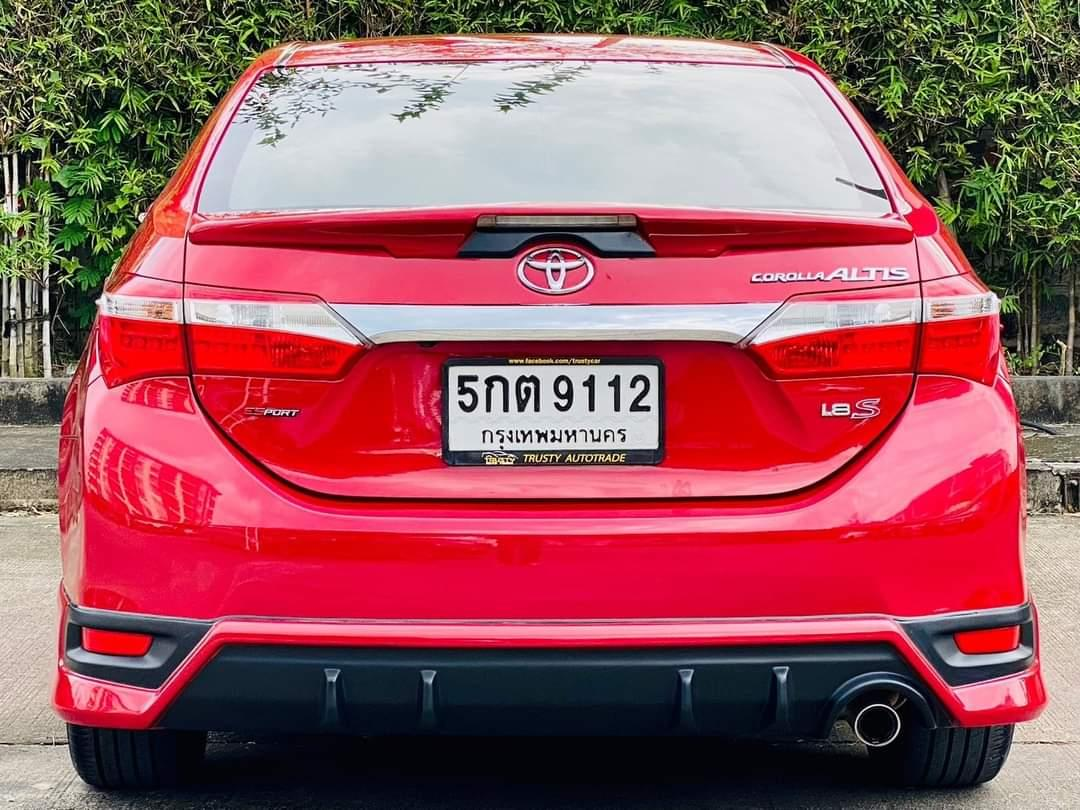license-plate: (442, 359, 667, 468)
